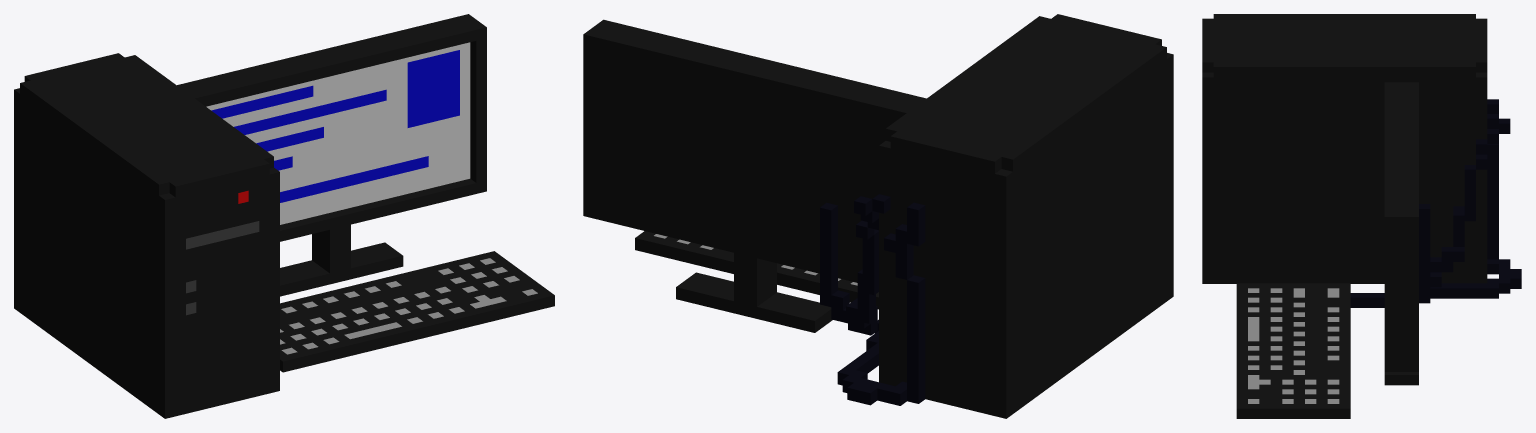
The model's file is computer.glb.
The picture shows the model from 3 angles, left to right: view 1: azimuth 30°, elevation 25°; view 2: azimuth 150°, elevation 25°; view 3: azimuth 270°, elevation 25°; orthographic projection. The views are drawn at different scales.
Visible parts, largest first — view 1: model; view 2: model; view 3: model.
Part boxes in pixels (bbox=[...]): model: bbox=[14, 14, 554, 418]; model: bbox=[583, 14, 1173, 418]; model: bbox=[1202, 14, 1521, 418].
Bounding box in the file's own units: 4 × 2.1 × 2.8.
